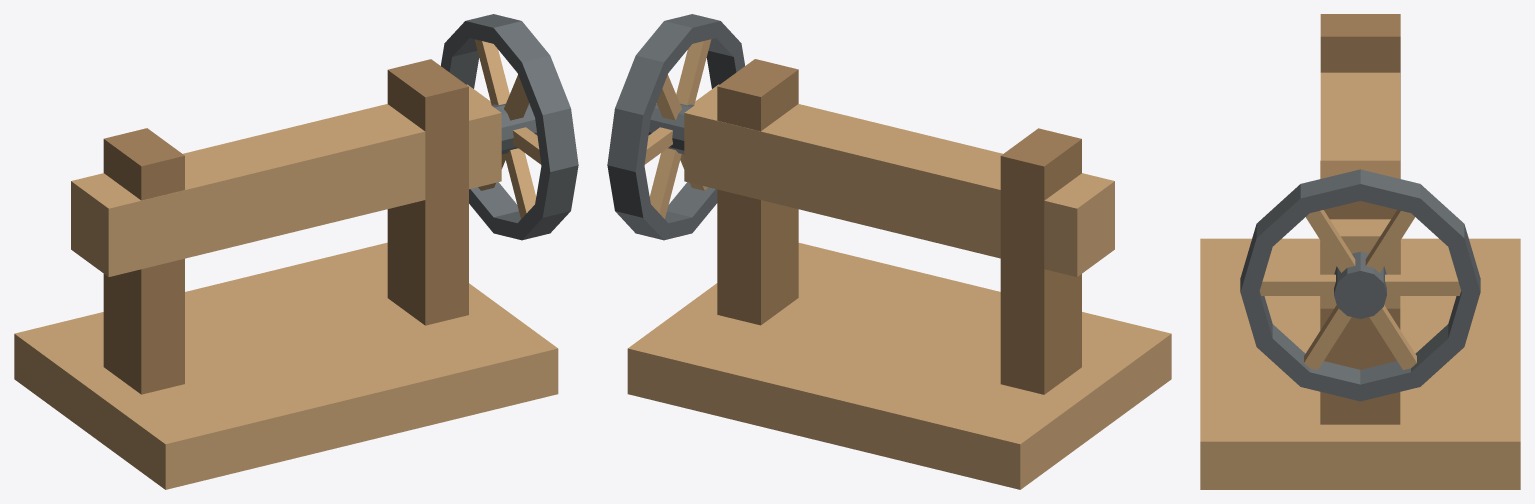
The model's file is gate-winch.glb.
3 renders of one model, left to right at view 1: azimuth 30°, elevation 25°; view 2: azimuth 150°, elevation 25°; view 3: azimuth 270°, elevation 25°, orthographic. The views are drawn at different scales.
Parts seen in each view (by area): view 1: gate-winch; view 2: gate-winch; view 3: gate-winch.
Part boxes in pixels (x1,y1,x2,y2): gate-winch: (14,14,578,489); gate-winch: (607,14,1171,489); gate-winch: (1200,14,1520,489).
Bounding box in the file's own units: 2 × 1.35 × 1.2.
